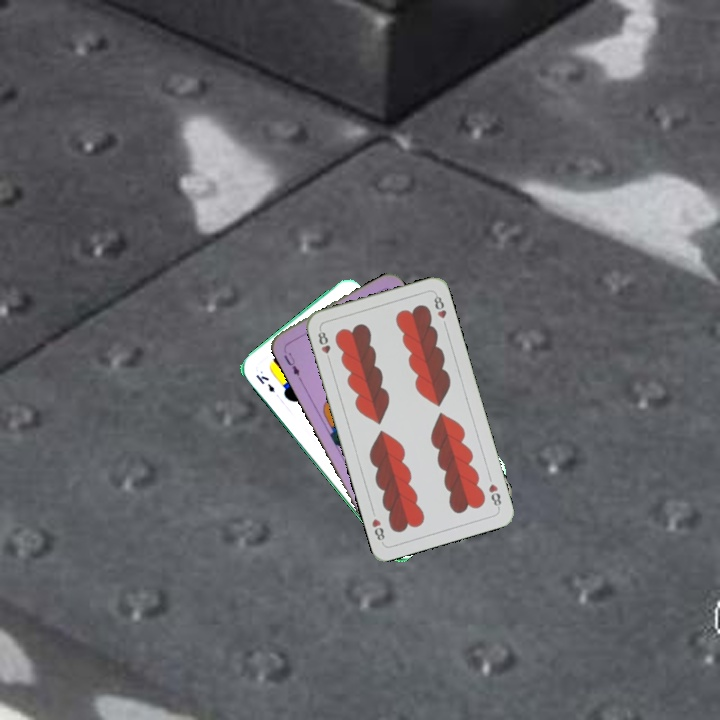EK: (252, 371, 277, 395)
EU: (279, 343, 303, 381)
H8: (314, 325, 333, 365), (485, 480, 504, 511)
